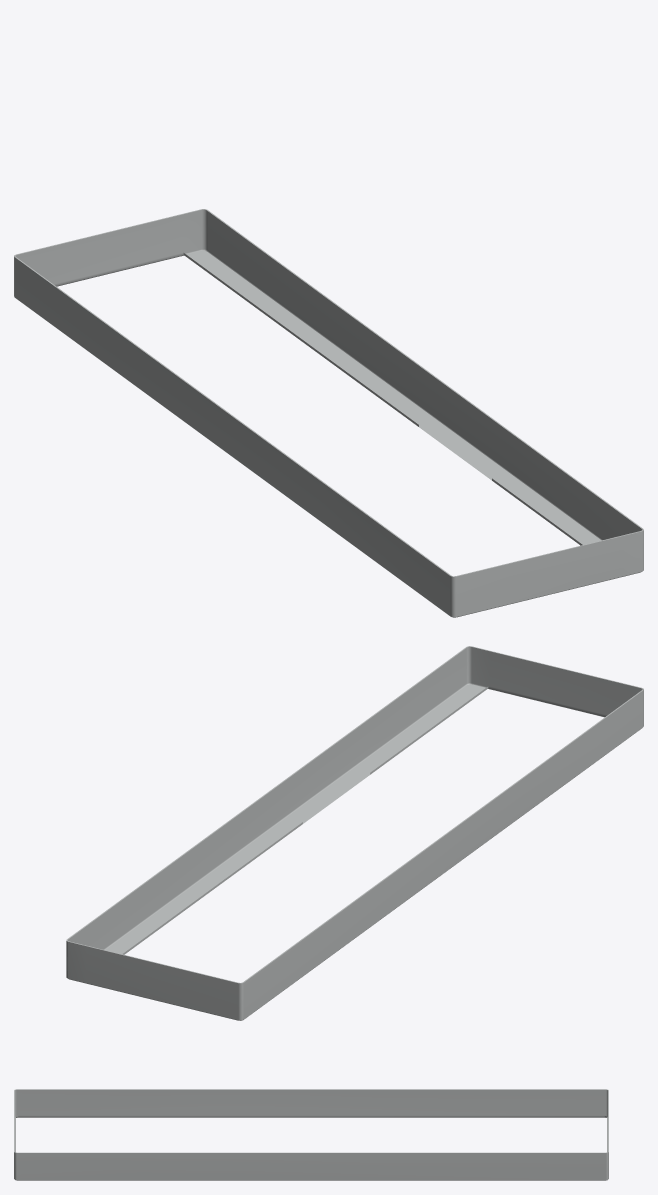
File: MeshFridgeFreezerdoorD4_3_GeomSubset_2.obj
3 renders of one model, top to bottom at view 1: azimuth 30°, elevation 25°; view 2: azimuth 150°, elevation 25°; view 3: azimuth 270°, elevation 25°, orthographic. The views are drawn at different scales.
Visible parts, largest first — view 1: MeshFridgeFreezerdoorD4_3_GeomSubset_2; view 2: MeshFridgeFreezerdoorD4_3_GeomSubset_2; view 3: MeshFridgeFreezerdoorD4_3_GeomSubset_2.
Boxes of the visible parts, bbox=[...] form: MeshFridgeFreezerdoorD4_3_GeomSubset_2: bbox=[14, 209, 643, 617]; MeshFridgeFreezerdoorD4_3_GeomSubset_2: bbox=[66, 646, 643, 1020]; MeshFridgeFreezerdoorD4_3_GeomSubset_2: bbox=[14, 1089, 608, 1180].
Bounding box in the file's own units: 0.492 × 0.4414 × 1.78.
